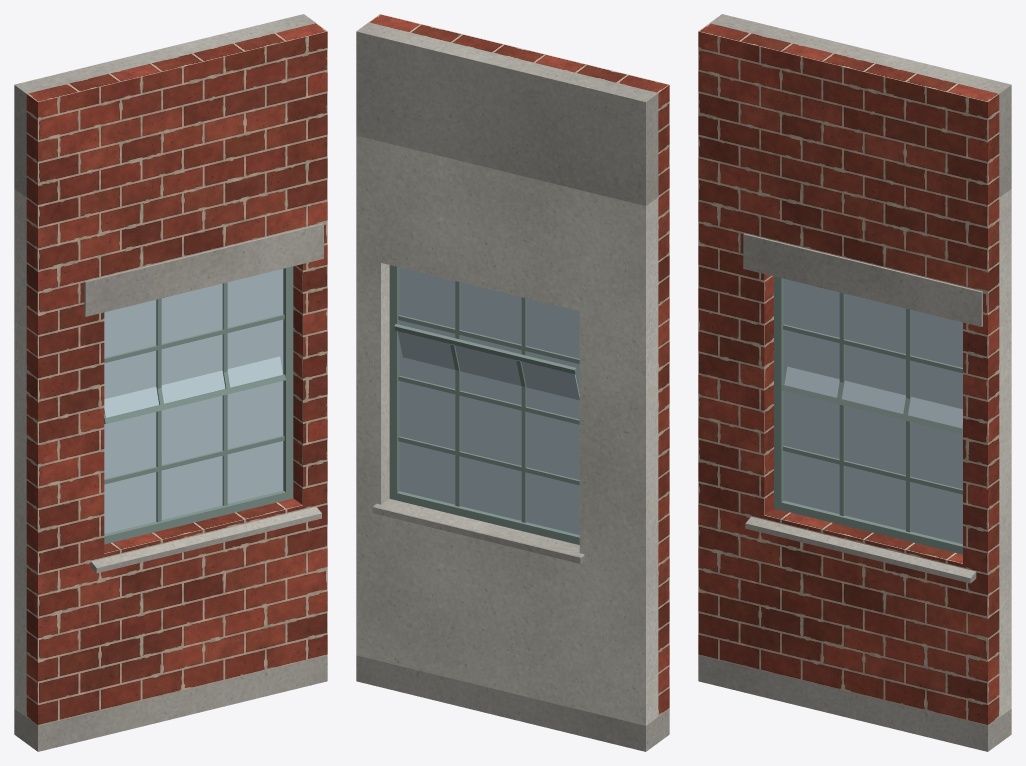
The model's file is w_win_r.glb.
The picture shows the model from 3 angles, left to right: view 1: azimuth 30°, elevation 25°; view 2: azimuth 150°, elevation 25°; view 3: azimuth 330°, elevation 25°; orthographic projection.
Parts seen in each view (by area): view 1: w_win_r_brick, w_win_r_glass, w_win_r_concrete, w_win_r_frame, w_win_r_plaster; view 2: w_win_r_plaster, w_win_r_concrete, w_win_r_glass, w_win_r_frame, w_win_r_brick; view 3: w_win_r_brick, w_win_r_glass, w_win_r_concrete, w_win_r_frame, w_win_r_plaster.
Boxes of the visible parts, x1,y1,x2,y2 form: w_win_r_brick: [26, 23, 327, 725]; w_win_r_glass: [104, 269, 283, 533]; w_win_r_concrete: [14, 14, 327, 751]; w_win_r_frame: [104, 266, 293, 544]; w_win_r_plaster: [14, 189, 26, 717]; w_win_r_plaster: [356, 135, 658, 725]; w_win_r_concrete: [356, 22, 669, 751]; w_win_r_glass: [397, 267, 579, 534]; w_win_r_frame: [389, 265, 579, 544]; w_win_r_brick: [369, 14, 669, 716]; w_win_r_brick: [698, 23, 999, 725]; w_win_r_glass: [784, 279, 962, 544]; w_win_r_concrete: [698, 14, 1011, 751]; w_win_r_frame: [774, 276, 962, 554]; w_win_r_plaster: [999, 189, 1011, 717].
Bounding box in the file's own units: 1.75 × 3.75 × 0.35.
Materials: 5 (3 with a texture image).
